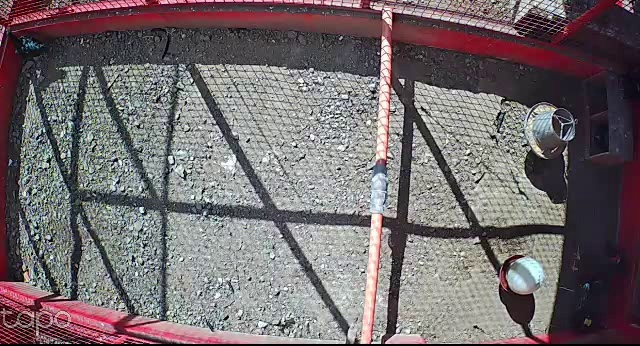Chicken: (5, 29, 53, 60)
Drinker: (498, 255, 545, 294)
Feeder: (523, 100, 577, 159)
Saddle_Color_Yellow: (584, 318, 592, 327)
